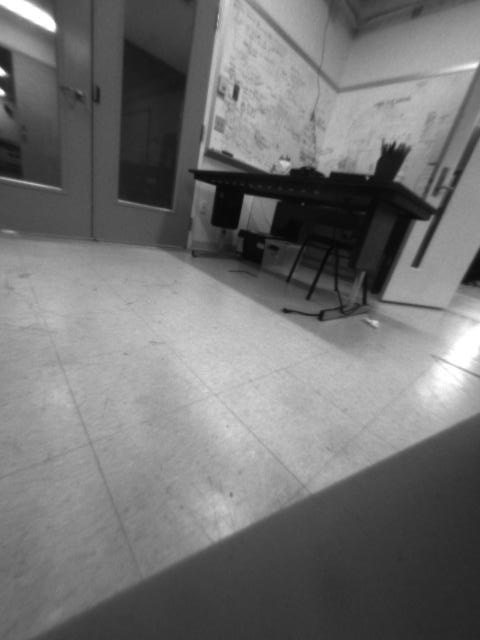door_handle: (52, 76, 88, 106)
